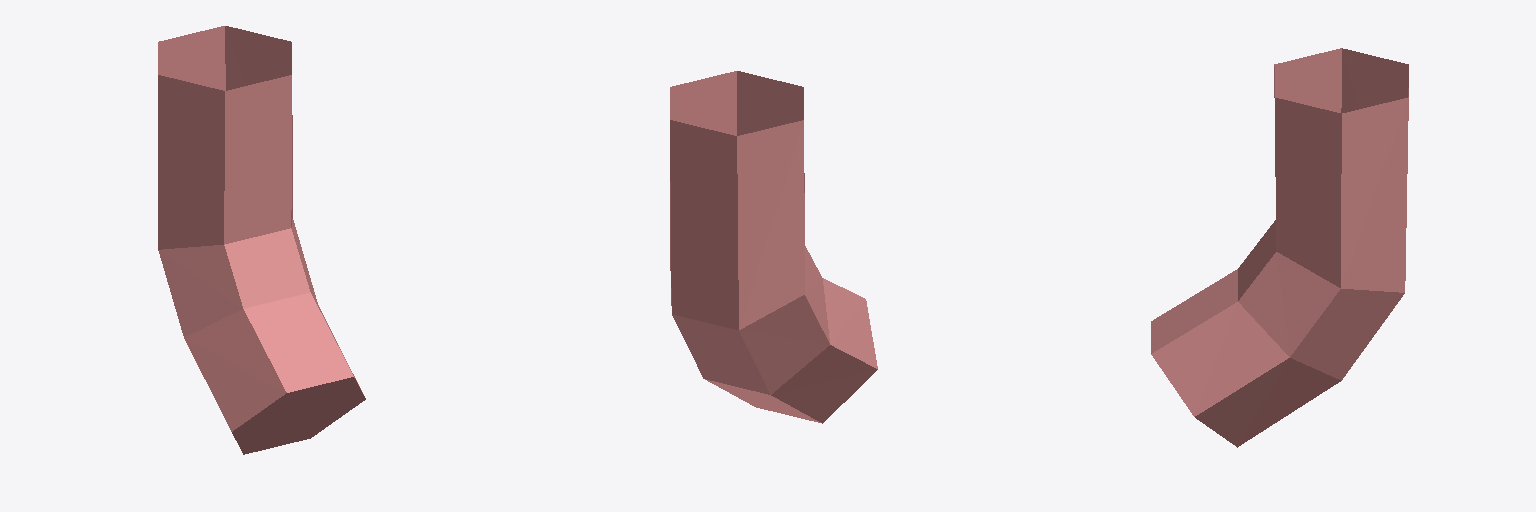
File: rainpipe_bottom.obj
The picture shows the model from 3 angles: view 1: azimuth 30°, elevation 25°; view 2: azimuth 150°, elevation 25°; view 3: azimuth 270°, elevation 25°; orthographic projection.
Parts seen in each view (by area): view 1: Object002; view 2: Object002; view 3: Object002.
Boxes of the visible parts, box(x1,y1,x2,y2) form: Object002: box(158, 26, 365, 454); Object002: box(670, 71, 877, 423); Object002: box(1151, 48, 1408, 447).
Size of the model in its own units: 0.9119 by 2.27 by 1.51.